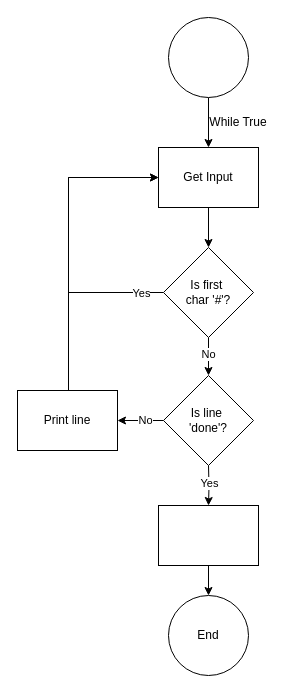
Some shapes in this 286 by 693 pixel diagram are drawn without their labels. The centre of each missing label's shape, as x and y in pixels:
"Print 'Done!'" belongs at (x=208, y=535).
"Start" belongs at (x=208, y=57).
